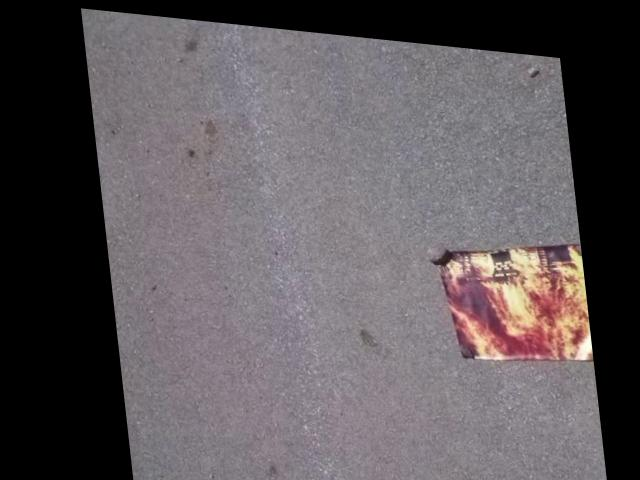fire-poster: (419, 218, 587, 363)
